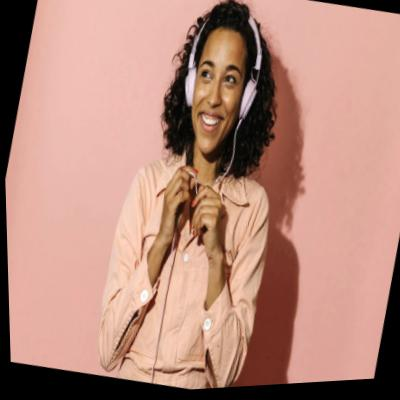happy: (178, 33, 251, 159)
